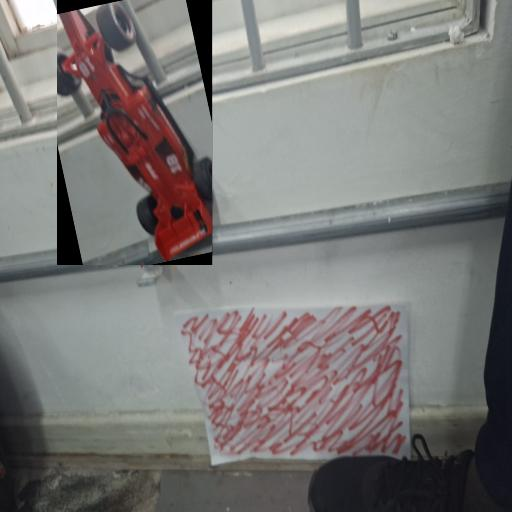carro: (59, 0, 213, 264)
